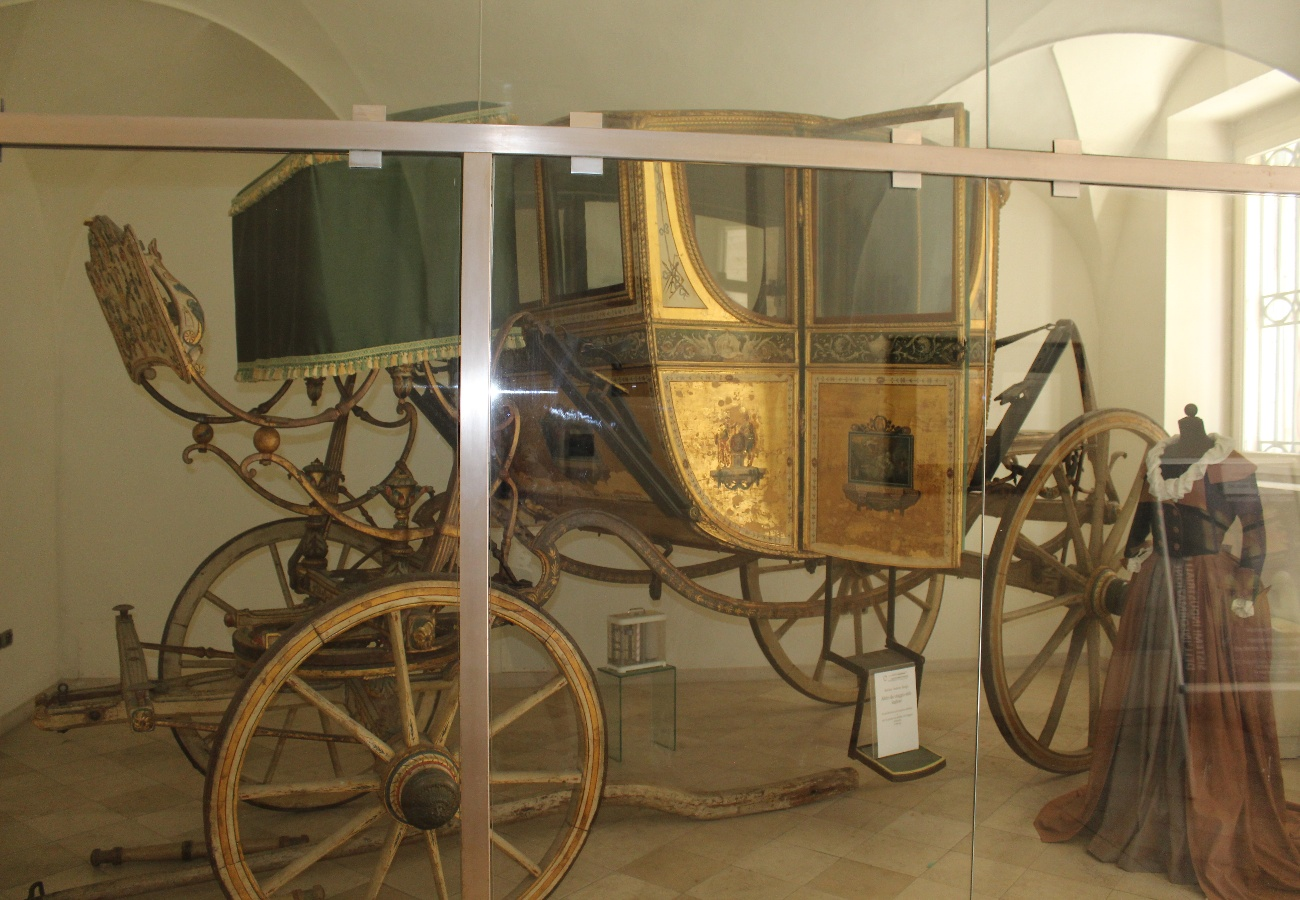Berlina Mosca: (80, 92, 1200, 900)
